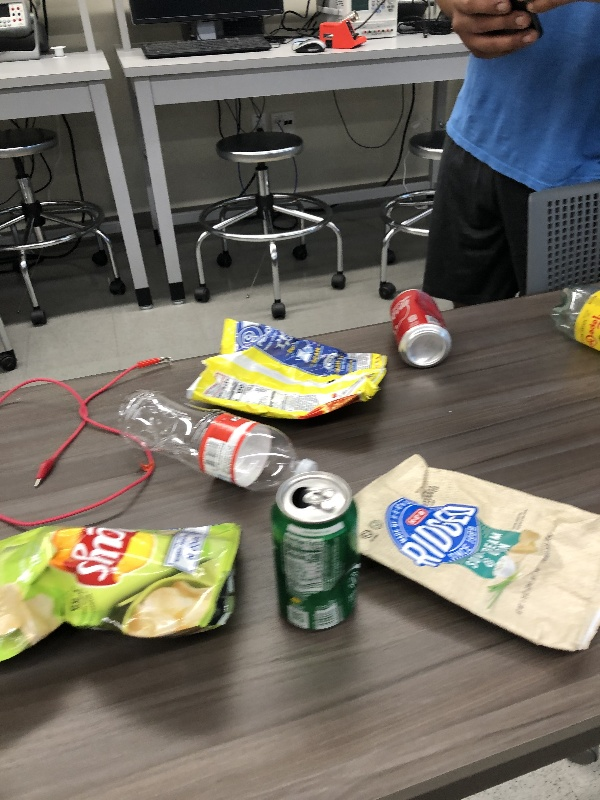bag: (322, 449, 600, 658), (1, 512, 248, 671), (181, 316, 391, 423)
bottle: (116, 386, 329, 494), (546, 276, 600, 361)
can: (268, 468, 363, 639), (385, 287, 456, 369)
